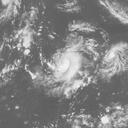cyclone: (48, 47, 96, 87)
